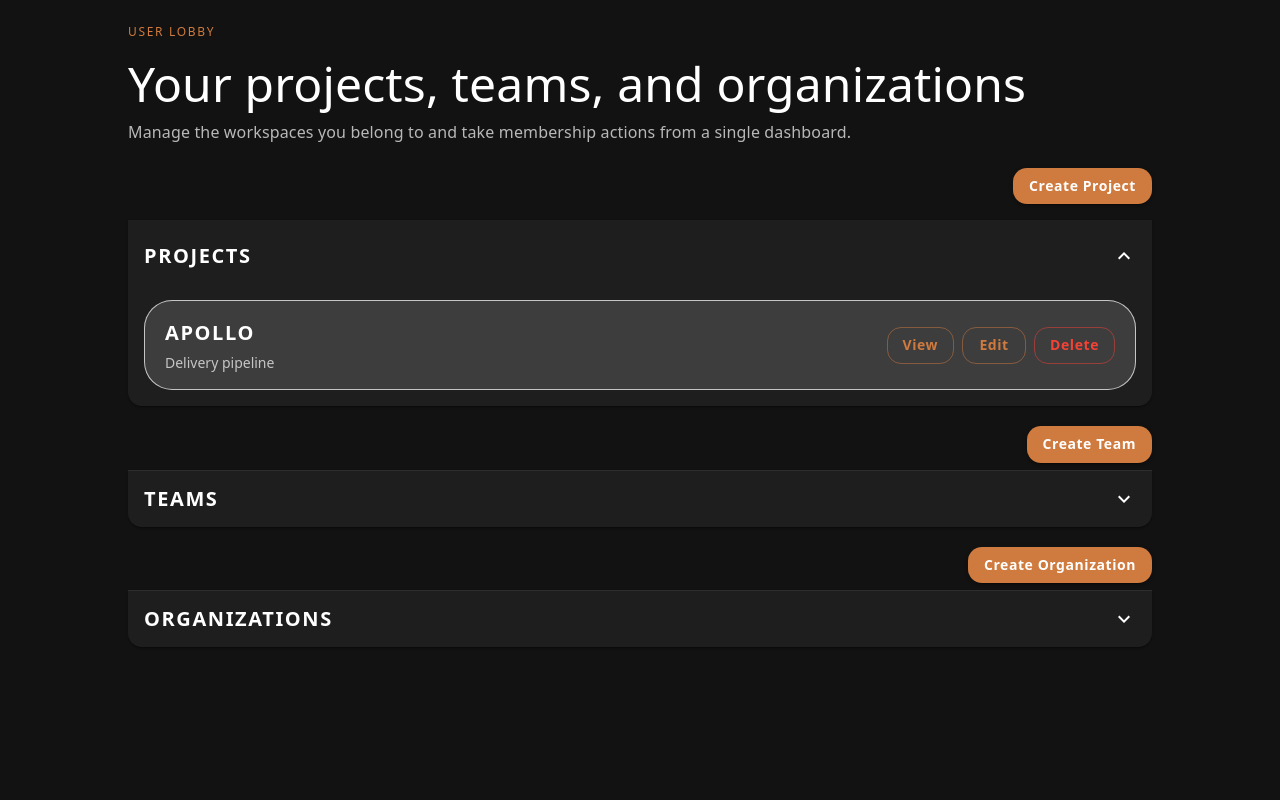
Test case: UserLobbyPage › shows a structured blocker message when deleting a project fails
Click the button "Delete" at (1075, 345), box left=1034, top=327, right=1115, bottom=364
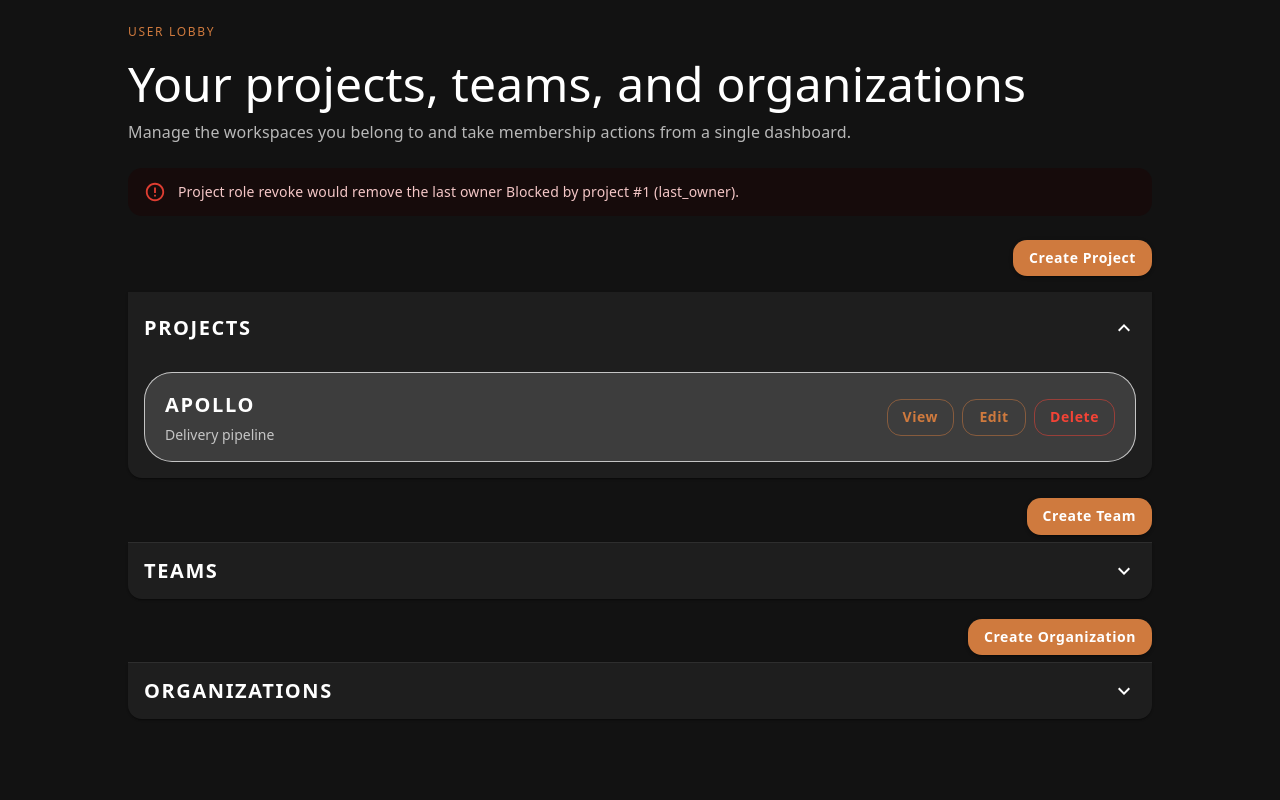
Expected: the heading "Apollo" is shown, left=165, top=391, right=255, bottom=418
Expected: the text "Project role revoke would remove the last owner Blocked by project #1 (last_owner)." is shown, left=178, top=182, right=739, bottom=201
